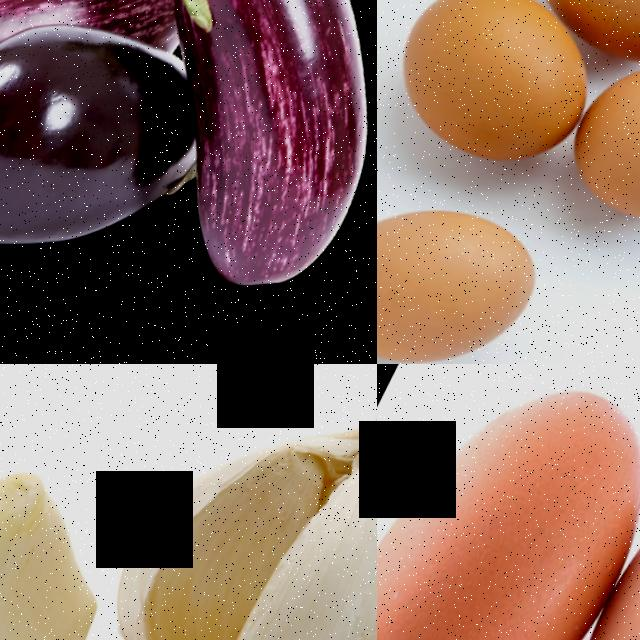egg_: (377, 364, 640, 640), (377, 0, 633, 197), (377, 159, 582, 364), (520, 380, 640, 640), (544, 33, 640, 267)
eggplant: (129, 0, 377, 332), (0, 0, 217, 295)
garlic: (60, 364, 377, 640), (0, 432, 171, 640)
